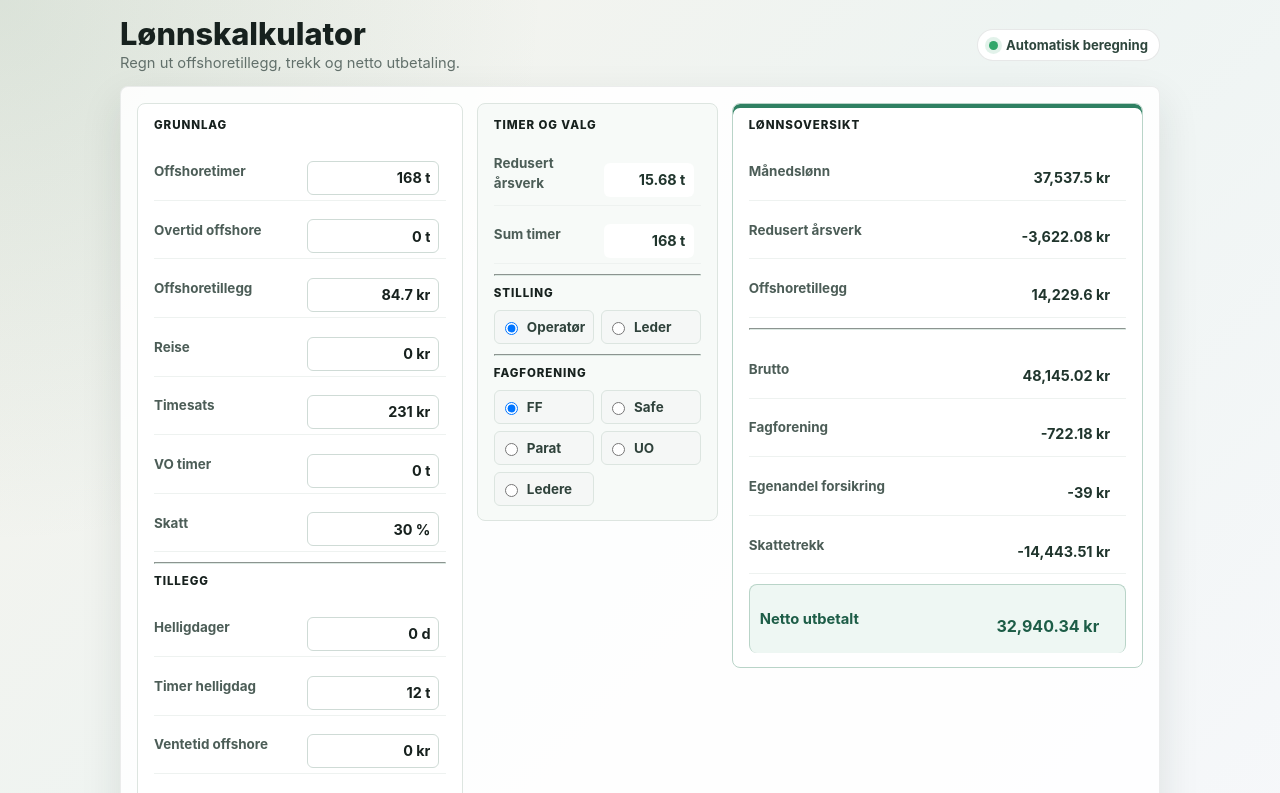
Test case: does not deduct reduced annual work for leaders
Click the radio button labelled "Leder" at (618, 329), box x1=612 y1=322 x2=625 y2=335
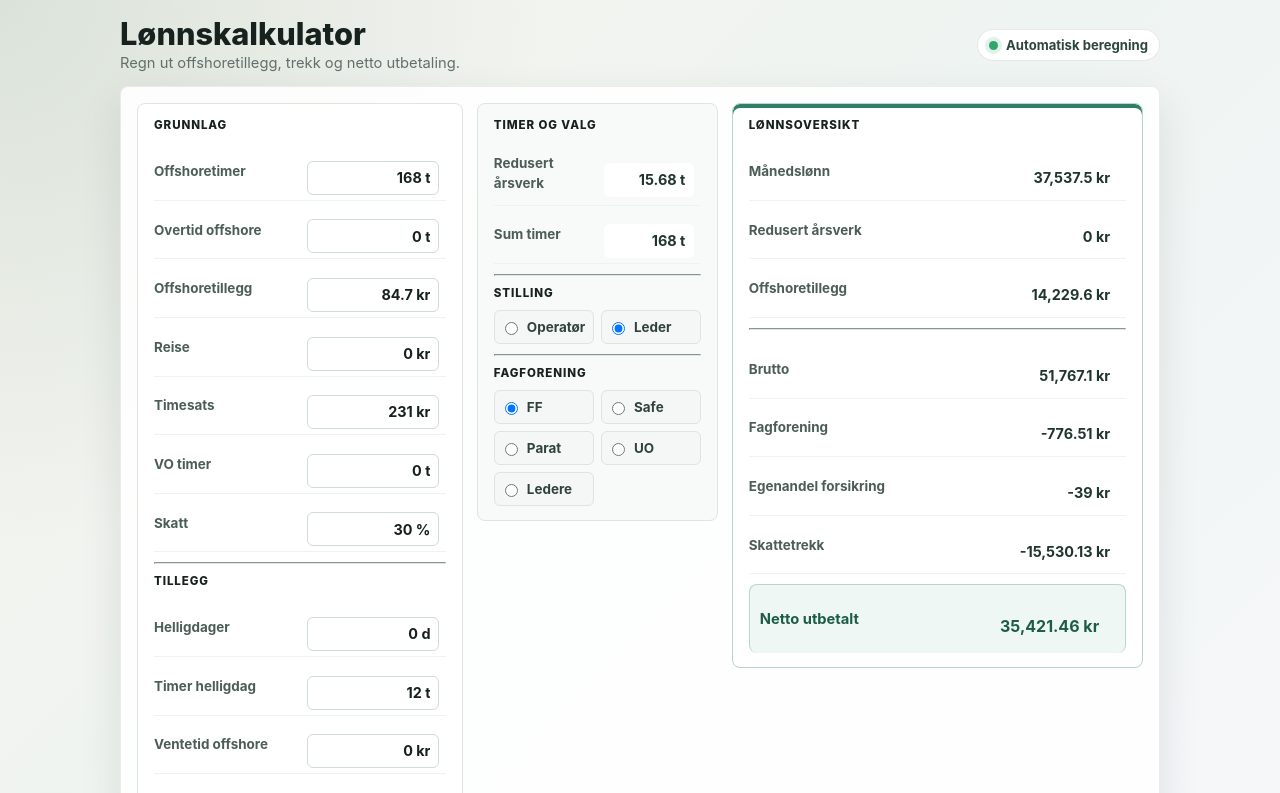
Result: the field labelled "Redusert årsverk" below "Månedslønn" holds "0 kr" at x1=944 y1=219 x2=1119 y2=253
